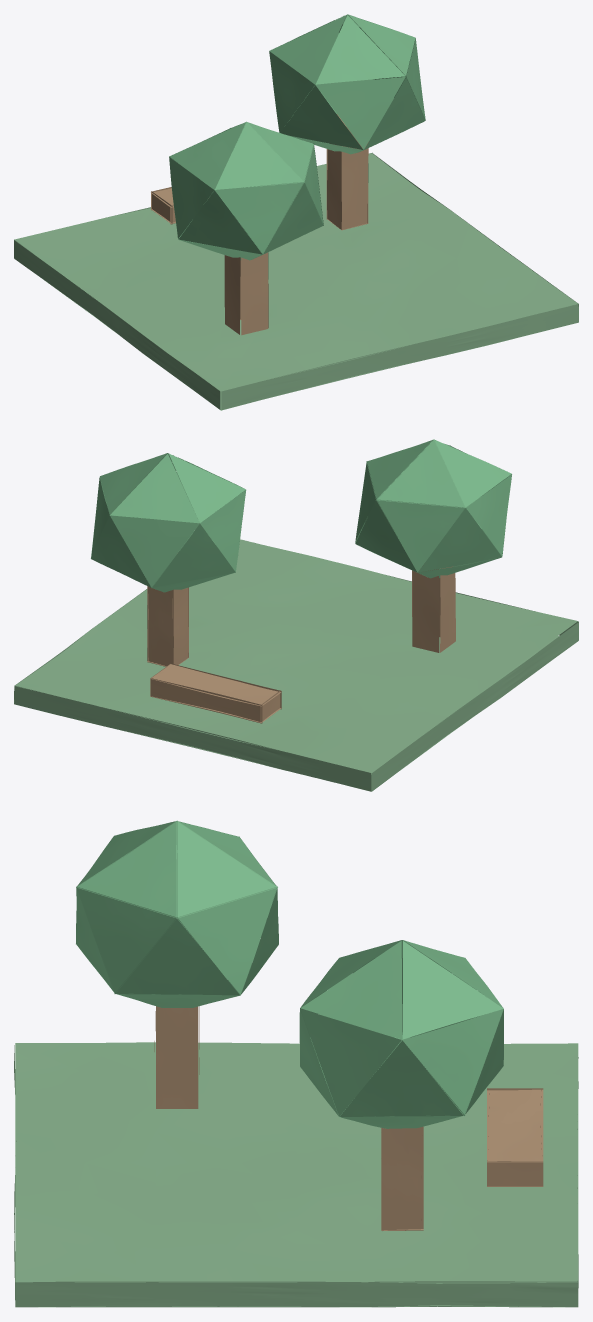
File: park.glb
The picture shows the model from 3 angles, top to bottom: view 1: azimuth 30°, elevation 25°; view 2: azimuth 150°, elevation 25°; view 3: azimuth 270°, elevation 25°; orthographic projection. The views are drawn at different scales.
Parts seen in each view (by area): view 1: MetroPark; view 2: MetroPark; view 3: MetroPark.
Boxes of the visible parts, x1,y1,x2,y2 form: MetroPark: (14, 14, 578, 410); MetroPark: (14, 439, 578, 791); MetroPark: (14, 820, 578, 1307).
Bounding box in the file's own units: 1.61 × 0.9684 × 1.61.
